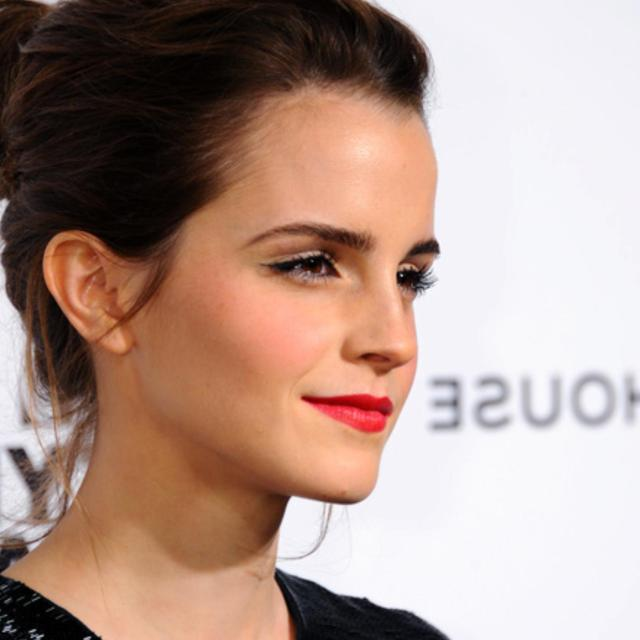no-earmuff: (29, 213, 189, 369)
